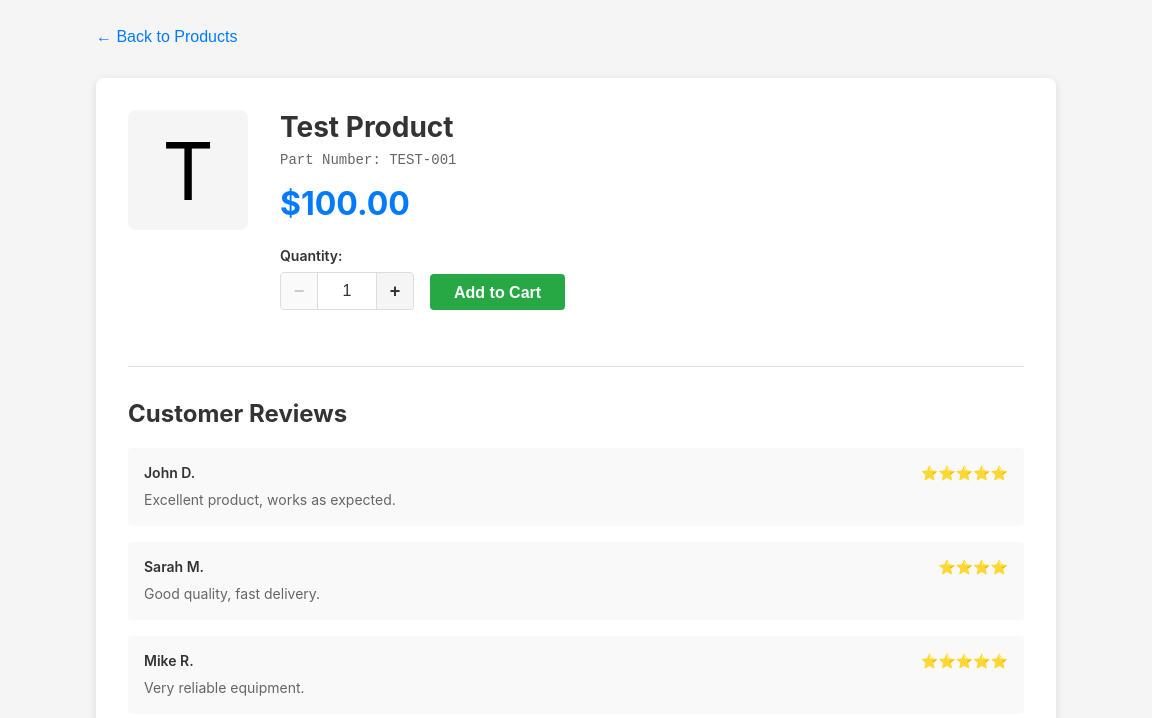
Test: ProductPage › Error Handling › should display error message when add-to-cart fails
Click the button "Add to Cart": (498, 292) left=430, top=274, right=565, bottom=310
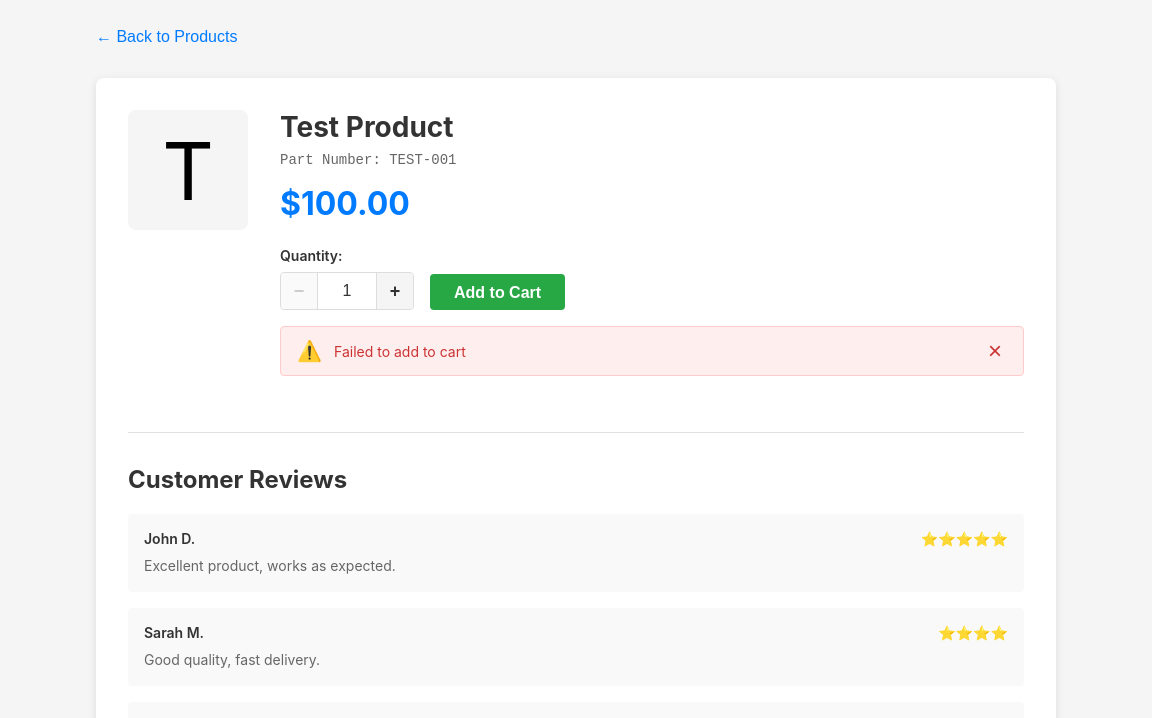
Result: the text "Failed to add to cart" is shown at left=334, top=342, right=466, bottom=360
